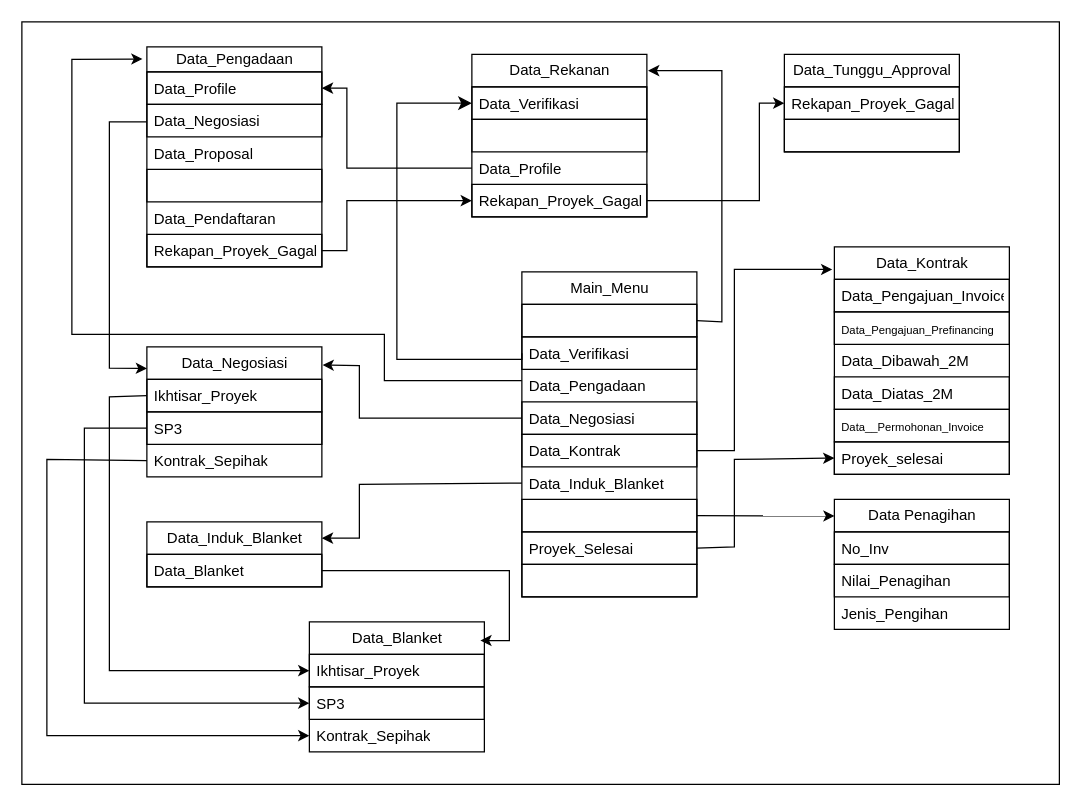
Image size: 1081x806. Some labels were removed from this diagram. The shapes that lost their labels are listed below. From the top down, each one's centre as x and y in pixels, then its label:
point (559, 135): Data_Tunggu_Aprroval
point (871, 135): No_Rekanan
point (234, 185): Data_Prakualifikas
point (609, 320): Data_Rekapan
point (609, 515): Data_Penagihan
point (609, 580): Rekapan_Data
